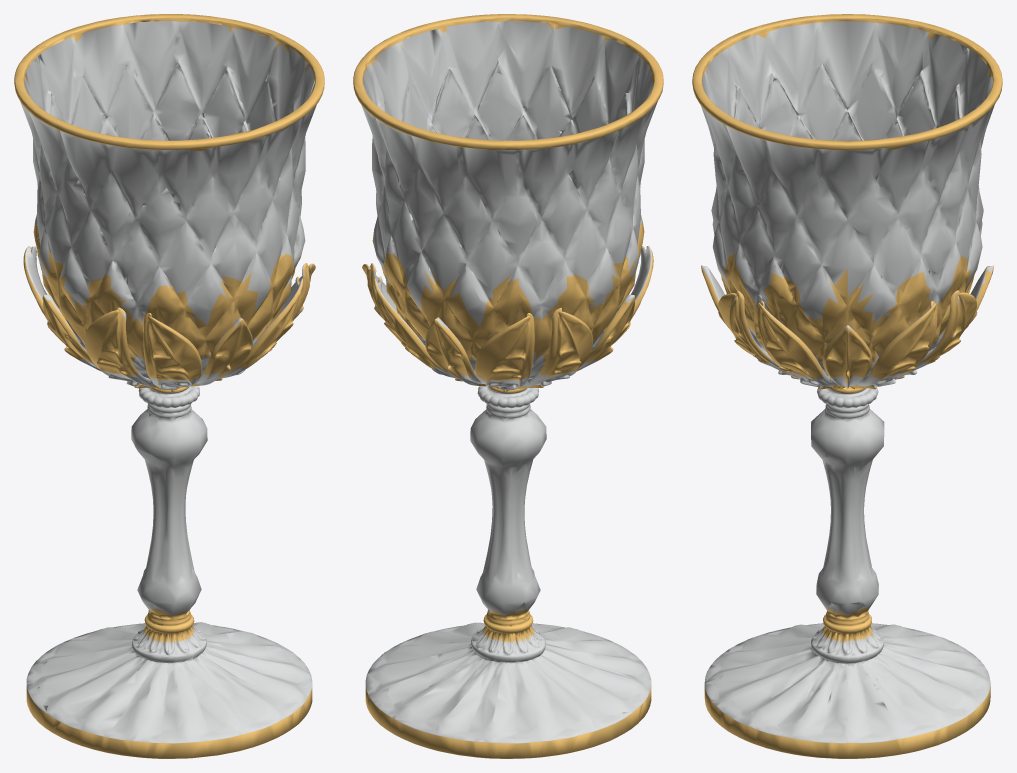
Rendered from g01-sunlit-diadem.glb.
3 renders of one model, left to right at view 1: azimuth 30°, elevation 25°; view 2: azimuth 150°, elevation 25°; view 3: azimuth 270°, elevation 25°, orthographic.
Parts seen in each view (by area): view 1: Glassware_G01_Intact_Mesh, Glassware_G01_Shard_024, Glassware_G01_Shard_015, Glassware_G01_Shard_000, Glassware_G01_Shard_026, Glassware_G01_Shard_003, Glassware_G01_Shard_029, Glassware_G01_Shard_019, Glassware_G01_Shard_014, Glassware_G01_Shard_001, Glassware_G01_Shard_009, Glassware_G01_Shard_013 (+7 smaller); view 2: Glassware_G01_Intact_Mesh, Glassware_G01_Shard_015, Glassware_G01_Shard_026, Glassware_G01_Shard_019, Glassware_G01_Shard_002, Glassware_G01_Shard_003, Glassware_G01_Shard_012, Glassware_G01_Shard_024, Glassware_G01_Shard_029, Glassware_G01_Shard_000, Glassware_G01_Shard_006, Glassware_G01_Shard_011 (+9 smaller); view 3: Glassware_G01_Intact_Mesh, Glassware_G01_Shard_029, Glassware_G01_Shard_026, Glassware_G01_Shard_001, Glassware_G01_Shard_019, Glassware_G01_Shard_024, Glassware_G01_Shard_015, Glassware_G01_Shard_002, Glassware_G01_Shard_009, Glassware_G01_Shard_000, Glassware_G01_Shard_010, Glassware_G01_Shard_004 (+6 smaller).
Part boxes in pixels (box(x1,y1,x2,y2)): Glassware_G01_Intact_Mesh: box(14, 14, 324, 758); Glassware_G01_Shard_024: box(44, 114, 251, 347); Glassware_G01_Shard_015: box(15, 14, 212, 140); Glassware_G01_Shard_000: box(103, 542, 282, 758); Glassware_G01_Shard_026: box(193, 56, 324, 314); Glassware_G01_Shard_003: box(26, 613, 150, 753); Glassware_G01_Shard_029: box(194, 16, 312, 138); Glassware_G01_Shard_019: box(14, 74, 92, 327); Glassware_G01_Shard_014: box(117, 316, 252, 453); Glassware_G01_Shard_001: box(186, 541, 312, 734); Glassware_G01_Shard_009: box(183, 266, 315, 438); Glassware_G01_Shard_013: box(49, 325, 159, 448); Glassware_G01_Intact_Mesh: box(353, 14, 661, 758); Glassware_G01_Shard_015: box(357, 93, 575, 342); Glassware_G01_Shard_026: box(391, 14, 625, 140); Glassware_G01_Shard_019: box(489, 105, 650, 349); Glassware_G01_Shard_002: box(365, 580, 511, 758); Glassware_G01_Shard_003: box(499, 599, 651, 758); Glassware_G01_Shard_012: box(442, 330, 581, 449); Glassware_G01_Shard_024: box(587, 37, 663, 285); Glassware_G01_Shard_029: box(353, 37, 420, 320); Glassware_G01_Shard_000: box(515, 541, 651, 680); Glassware_G01_Shard_006: box(492, 452, 535, 599); Glassware_G01_Shard_011: box(384, 320, 513, 455); Glassware_G01_Intact_Mesh: box(692, 14, 1001, 758); Glassware_G01_Shard_029: box(794, 124, 954, 346); Glassware_G01_Shard_026: box(692, 56, 824, 313); Glassware_G01_Shard_001: box(715, 543, 889, 758); Glassware_G01_Shard_019: box(819, 14, 937, 140); Glassware_G01_Shard_024: box(703, 14, 834, 287); Glassware_G01_Shard_015: box(926, 25, 1002, 326); Glassware_G01_Shard_002: box(860, 571, 990, 756); Glassware_G01_Shard_009: box(718, 289, 851, 446); Glassware_G01_Shard_000: box(704, 533, 830, 720); Glassware_G01_Shard_010: box(824, 346, 929, 455); Glassware_G01_Shard_004: box(834, 452, 868, 552).
Size of the model in its own units: 0.2037 by 0.45 by 0.2037.
